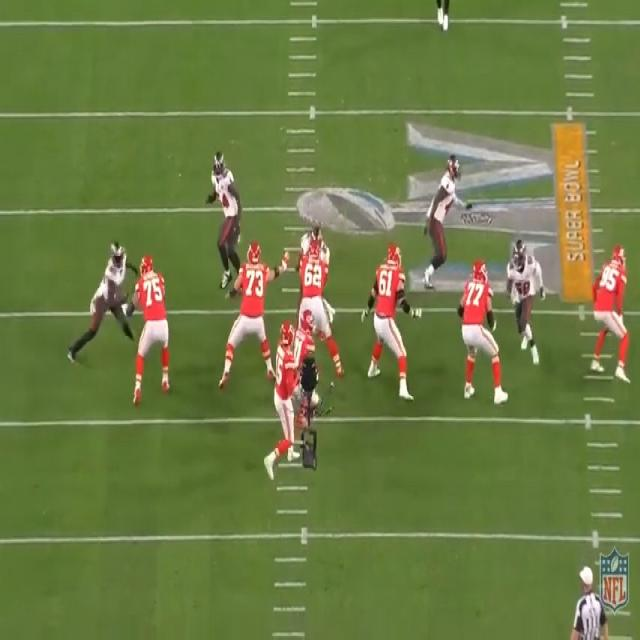players: (222, 235, 292, 391), (361, 230, 426, 393), (67, 242, 136, 366), (463, 253, 518, 402), (586, 232, 632, 394), (413, 138, 460, 294), (291, 246, 347, 372), (200, 129, 244, 289), (504, 226, 548, 364), (265, 320, 303, 477), (294, 304, 316, 428)
